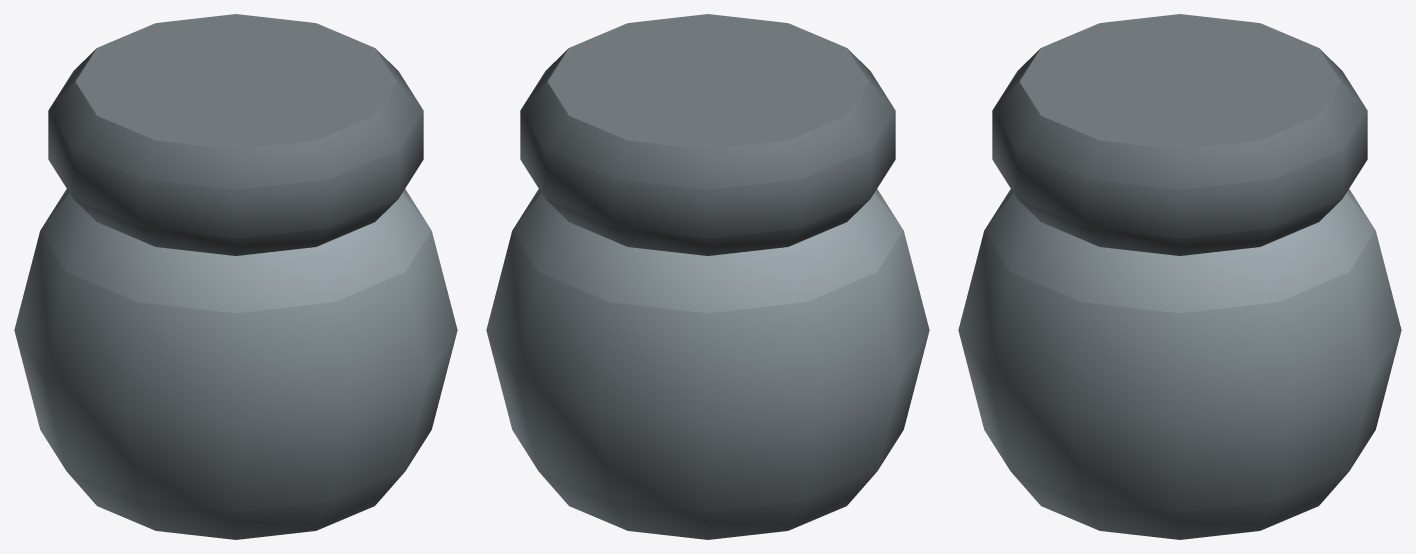
The model's file is kk_jar_b.glb.
3 views of the same model, side by side, from view 1: azimuth 30°, elevation 25°; view 2: azimuth 150°, elevation 25°; view 3: azimuth 270°, elevation 25° (orthographic).
Visible parts, largest first — view 1: jar_B_small; view 2: jar_B_small; view 3: jar_B_small.
Boxes of the visible parts, left/top/right/bottom form: jar_B_small: left=14, top=14, right=457, bottom=539; jar_B_small: left=486, top=14, right=929, bottom=539; jar_B_small: left=958, top=14, right=1401, bottom=539.
Bounding box in the file's own units: 0.1338 × 0.13 × 0.1338.
1 material, 1 textured.
